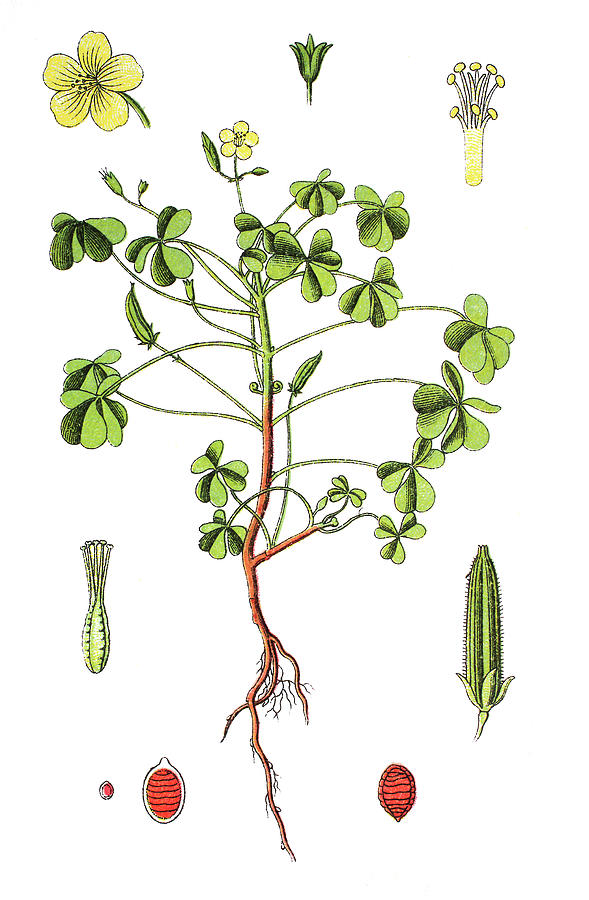oxalis: (40, 186, 210, 451), (414, 287, 510, 570), (248, 170, 391, 325), (343, 448, 449, 567), (159, 436, 262, 556)
